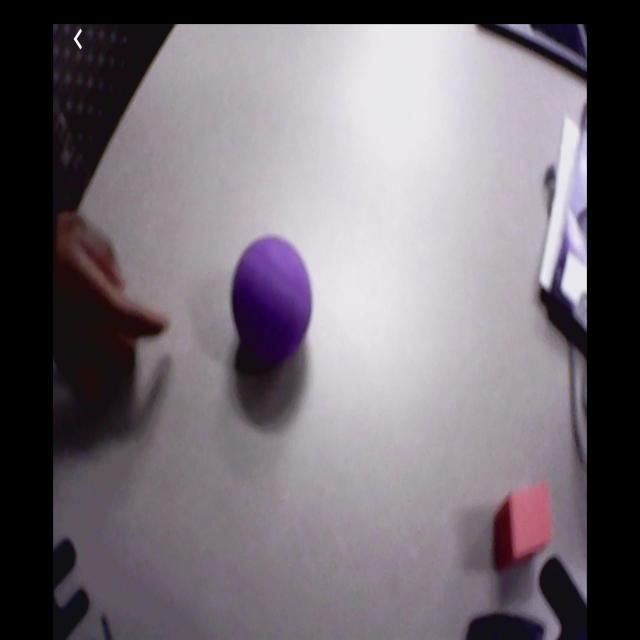ball: (233, 240, 314, 352)
